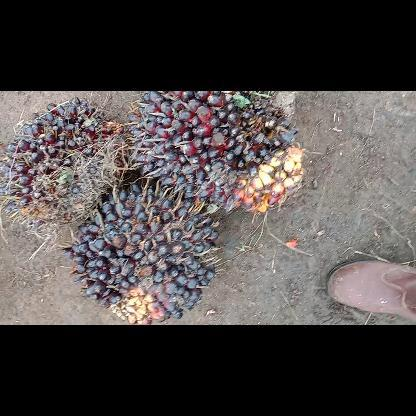TBS mentah: (59, 178, 221, 324), (128, 91, 310, 216), (0, 95, 131, 233)
